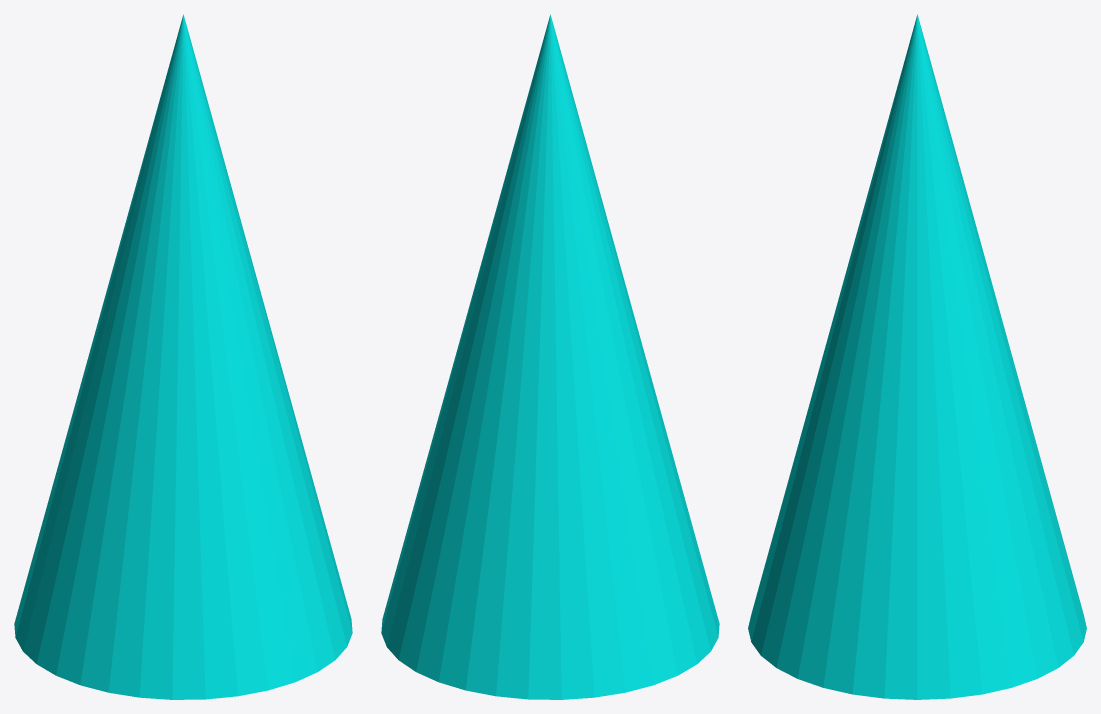
Rendered from tree2.glb.
3 views of the same model, side by side, from view 1: azimuth 30°, elevation 25°; view 2: azimuth 150°, elevation 25°; view 3: azimuth 270°, elevation 25° (orthographic).
Parts seen in each view (by area): view 1: Cone; view 2: Cone; view 3: Cone.
Part boxes in pixels (x1,y1,x2,y2): Cone: [14, 14, 352, 699]; Cone: [381, 14, 719, 699]; Cone: [748, 14, 1086, 699].
Size of the model in its own units: 2 by 4.4 by 2.
